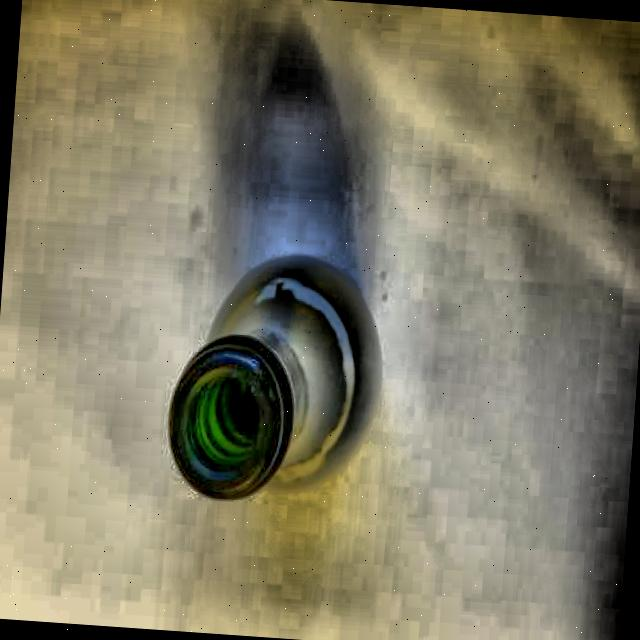glass: (154, 238, 386, 524)
